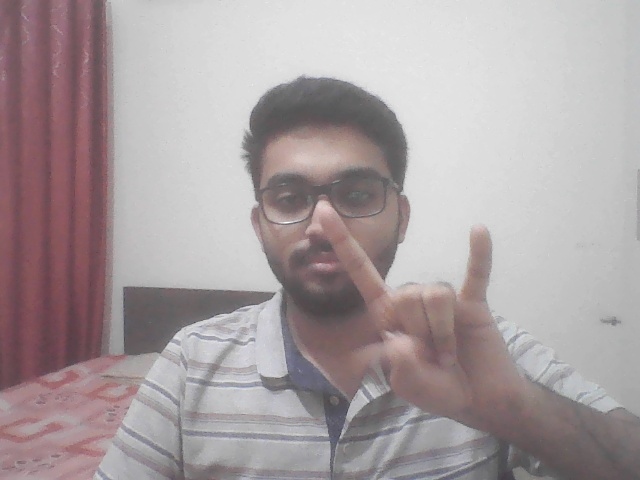iloveyou: (298, 198, 524, 425)
